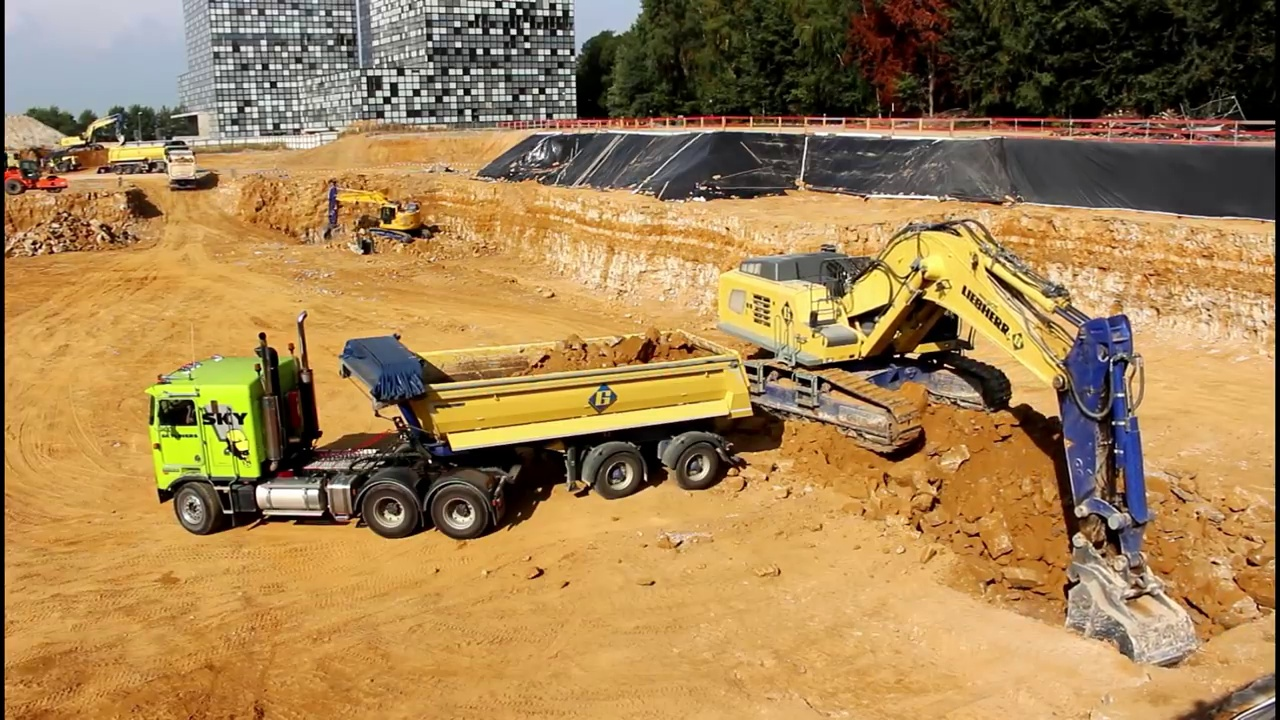compactor: (6, 157, 71, 199)
excavator: (698, 212, 1205, 672), (314, 176, 440, 251), (56, 112, 132, 155)
truck: (139, 310, 757, 543), (98, 134, 192, 175), (160, 143, 201, 192)
